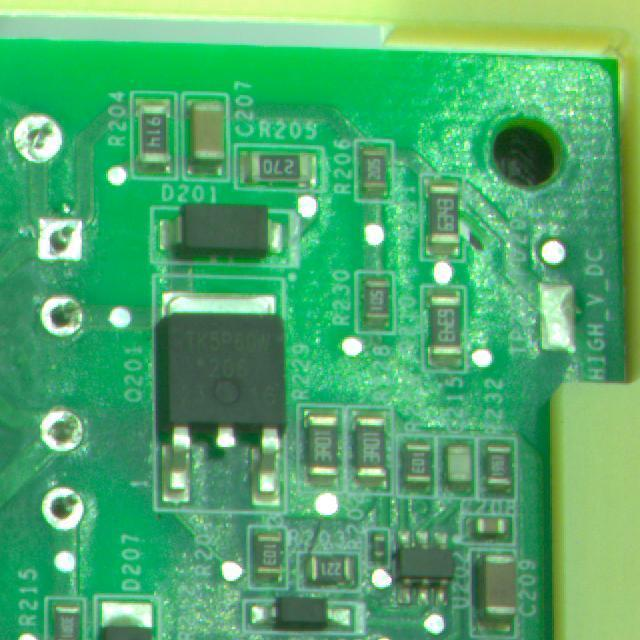Insufficient solder: (9, 105, 78, 182), (29, 401, 97, 461), (31, 210, 96, 268), (38, 287, 94, 351), (39, 482, 97, 538)
